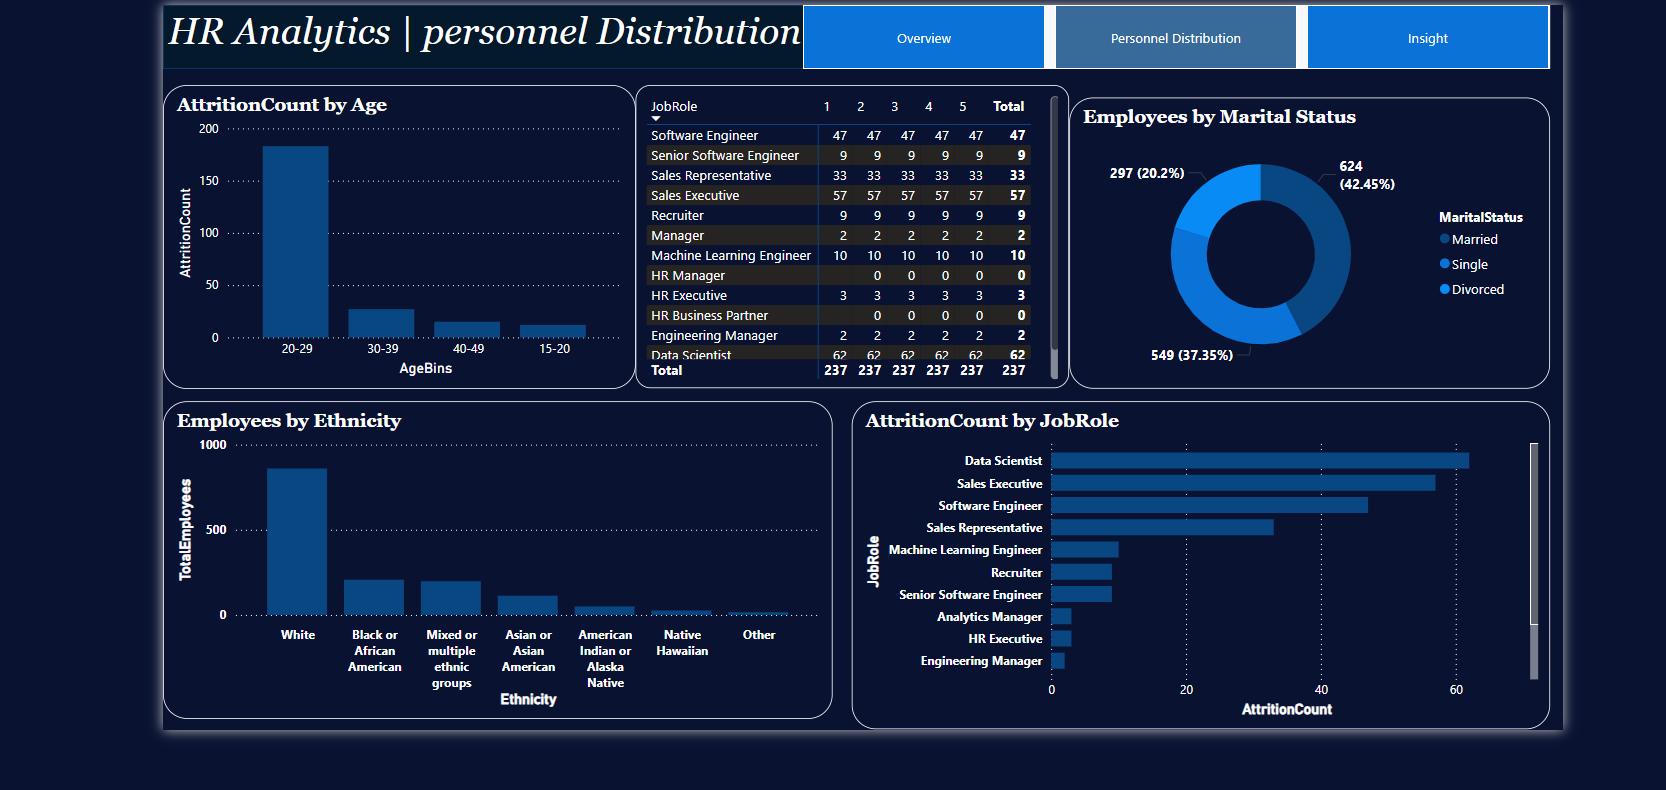

Layout of this report page (visuals, bound fields, positions):
{"tool":"powerbi","page":{"name":"Personnel Distribution","canvas":[1400,725],"ordinal":1},"visuals":[{"type":"donutChart","title":"Employees by Marital Status","fields":{"Category":["DimEmployee.MaritalStatus"],"Y":["_Measures.TotalEmployees"]},"box":[905.9,92.3,480.9,291.5],"z":0},{"type":"columnChart","title":"Employees by Ethnicity ","fields":{"Category":["DimEmployee.Ethnicity"],"Y":["_Measures.TotalEmployees"]},"box":[0,396.6,669.8,317.8],"z":1000},{"type":"shape","box":[0,0,1280,64],"z":2000},{"type":"textbox","box":[0,0,656.1,63.9],"z":3000},{"type":"pageNavigator","box":[640,0,746.9,64.4],"z":4000},{"type":"clusteredColumnChart","title":"AttritionCount by Age","fields":{"Y":["Sum(DimEmployee.AttritionCount)"],"Category":["DimEmployee.AgeBins"]},"box":[0,80.2,472.4,303.6],"z":5000},{"type":"pivotTable","fields":{"Rows":["DimEmployee.JobRole"],"Columns":["FactPerformanceRating.JobSatisfaction"],"Values":["Sum(DimEmployee.AttritionCount)"]},"box":[472.8,80.1,433.4,303.4],"z":6000},{"type":"clusteredBarChart","fields":{"Category":["DimEmployee.JobRole"],"Y":["Sum(DimEmployee.AttritionCount)"]},"box":[688.2,396.6,698.7,328.3],"z":7000}]}

Visuals, with their boxes on the page's 1400x725 design canvas (x1, y1, x2, y2). These are canvas units, not pixel positions in the 1666x790 screenshot, which may show the page scaled, cropped or inside an application window:
"Employees by Marital Status" donutChart: (x1=906, y1=92, x2=1387, y2=384)
"Employees by Ethnicity " columnChart: (x1=0, y1=397, x2=670, y2=714)
shape: (x1=0, y1=0, x2=1280, y2=64)
textbox: (x1=0, y1=0, x2=656, y2=64)
pageNavigator: (x1=640, y1=0, x2=1387, y2=64)
"AttritionCount by Age" clusteredColumnChart: (x1=0, y1=80, x2=472, y2=384)
pivotTable - DimEmployee.JobRole x FactPerformanceRating.JobSatisfaction: (x1=473, y1=80, x2=906, y2=384)
clusteredBarChart - DimEmployee.JobRole x Sum(DimEmployee.AttritionCount): (x1=688, y1=397, x2=1387, y2=725)
